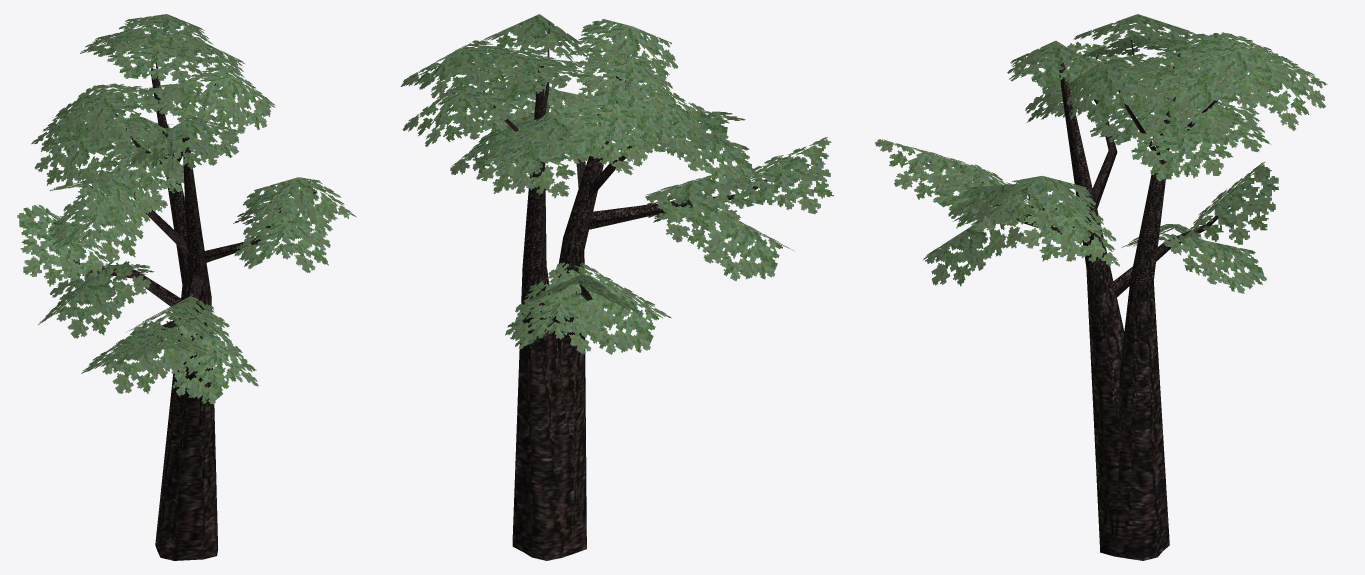
The model's file is tree_big.fbx.
3 renders of one model, left to right at view 1: azimuth 30°, elevation 25°; view 2: azimuth 150°, elevation 25°; view 3: azimuth 270°, elevation 25°, orthographic. The views are drawn at different scales.
Parts seen in each view (by area): view 1: tree_big; view 2: tree_big; view 3: tree_big.
Boxes of the visible parts, x1,y1,x2,y2 form: tree_big: [17, 14, 356, 560]; tree_big: [400, 14, 833, 560]; tree_big: [875, 14, 1327, 560].
Bounding box in the file's own units: 678 × 1046 × 897.
